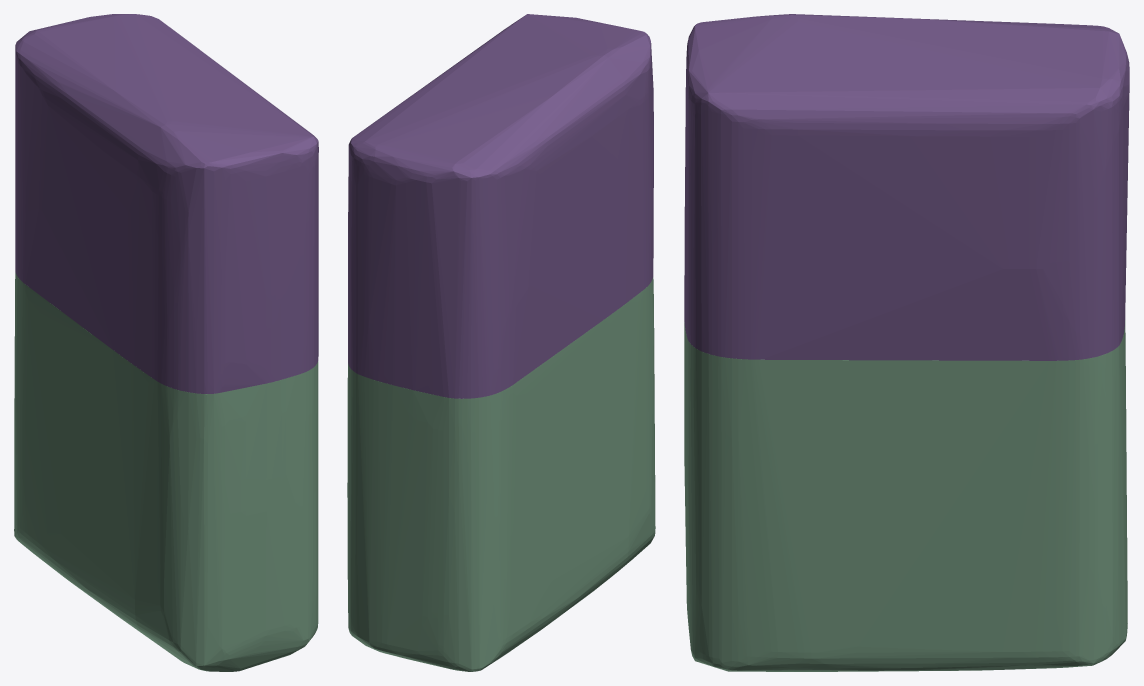
File: coacd_collision.obj
3 renders of one model, left to right at view 1: azimuth 30°, elevation 25°; view 2: azimuth 150°, elevation 25°; view 3: azimuth 270°, elevation 25°, orthographic. The views are drawn at different scales.
Visible parts, largest first — view 1: geometry_1, geometry_0; view 2: geometry_1, geometry_0; view 3: geometry_1, geometry_0.
Boxes of the visible parts, box(x1,y1,x2,y2) form: geometry_1: box(15, 14, 318, 393); geometry_0: box(14, 272, 318, 671); geometry_1: box(348, 14, 653, 398); geometry_0: box(347, 277, 655, 671); geometry_1: box(684, 14, 1129, 360); geometry_0: box(684, 320, 1127, 671).
Size of the model in its own units: 36.97 by 117 by 77.83.
